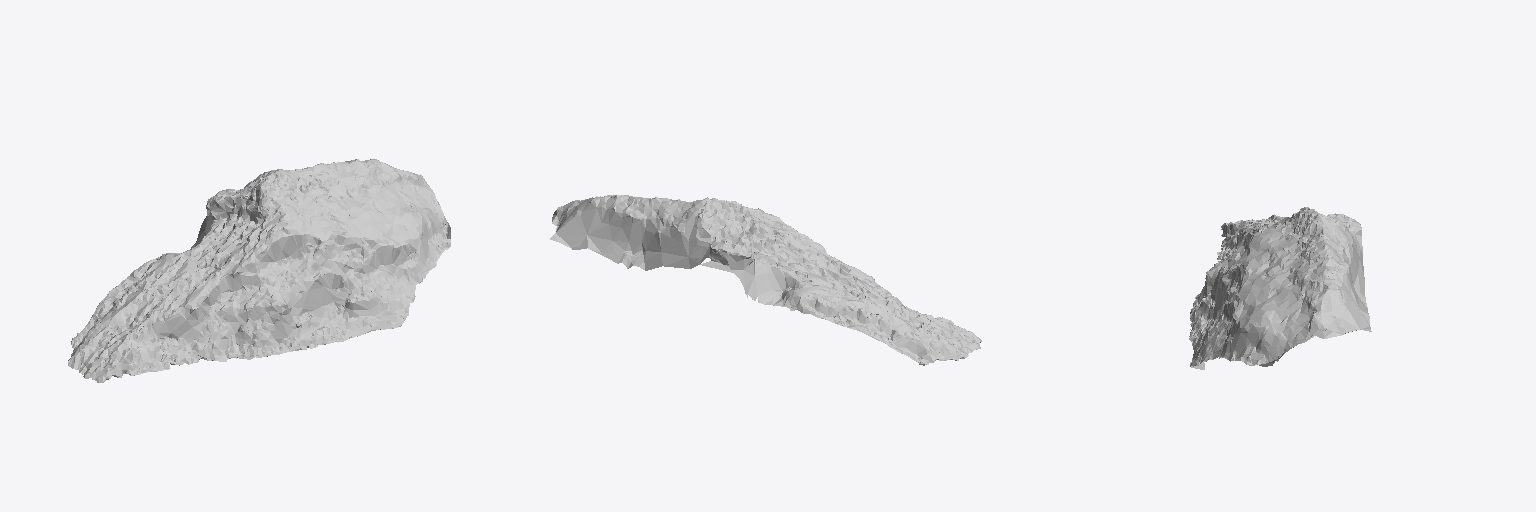
Rendered from CleanedLimestone2Reduced11000.obj.
The picture shows the model from 3 angles: view 1: azimuth 30°, elevation 25°; view 2: azimuth 150°, elevation 25°; view 3: azimuth 270°, elevation 25°; orthographic projection.
Bounding box in the file's own units: 49.13 × 15.29 × 20.24.